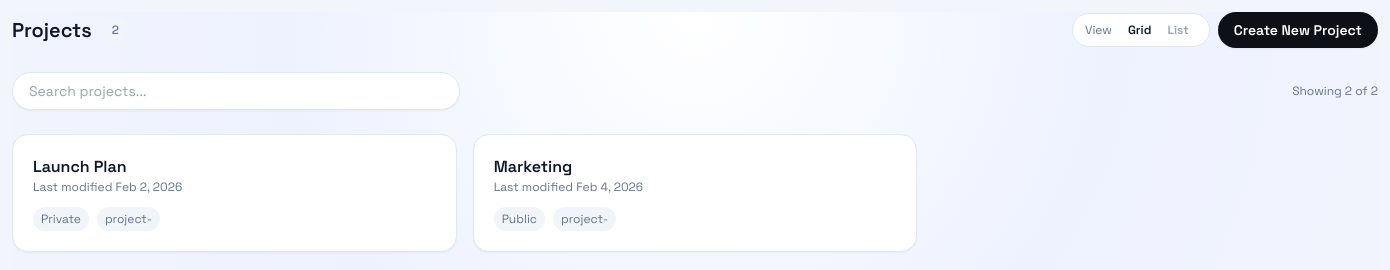
Scenario: ProjectList › filters projects by search query
Type "market" into the field with placeholder "Search projects...".
click(236, 91); type("market")  # box [12,72,460,110]
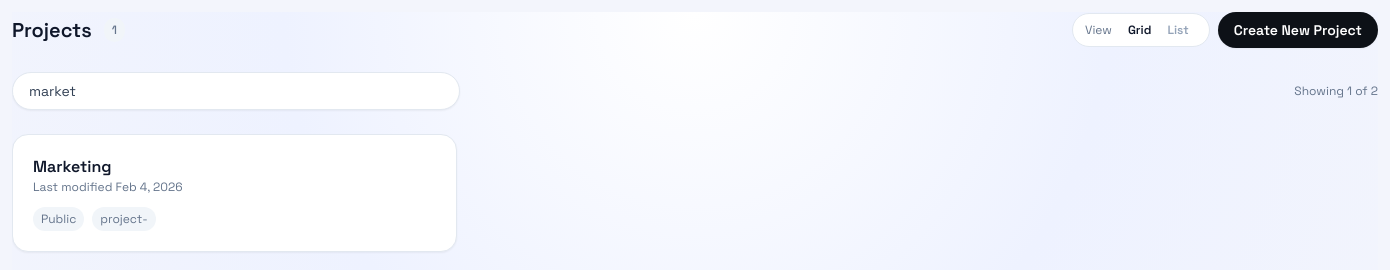
Expected: the heading "Marketing" is shown, [33,156,112,177]
Now the button "Launch Plan" is gone
